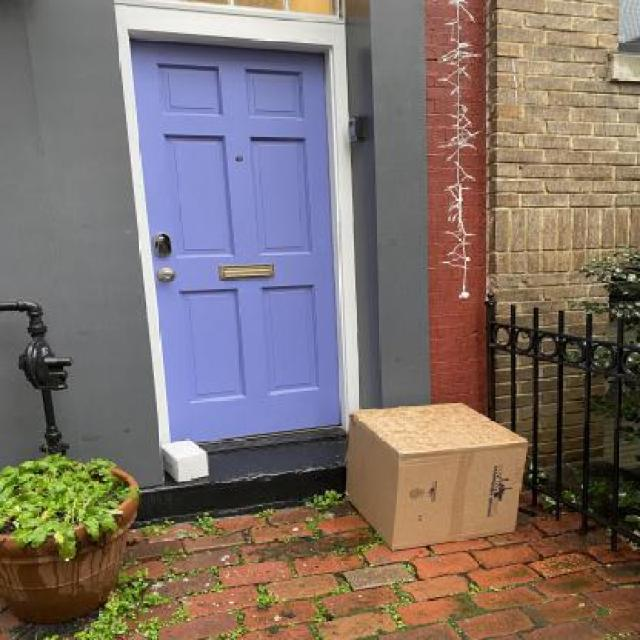cardboxes: (332, 398, 536, 556), (156, 434, 212, 484)
